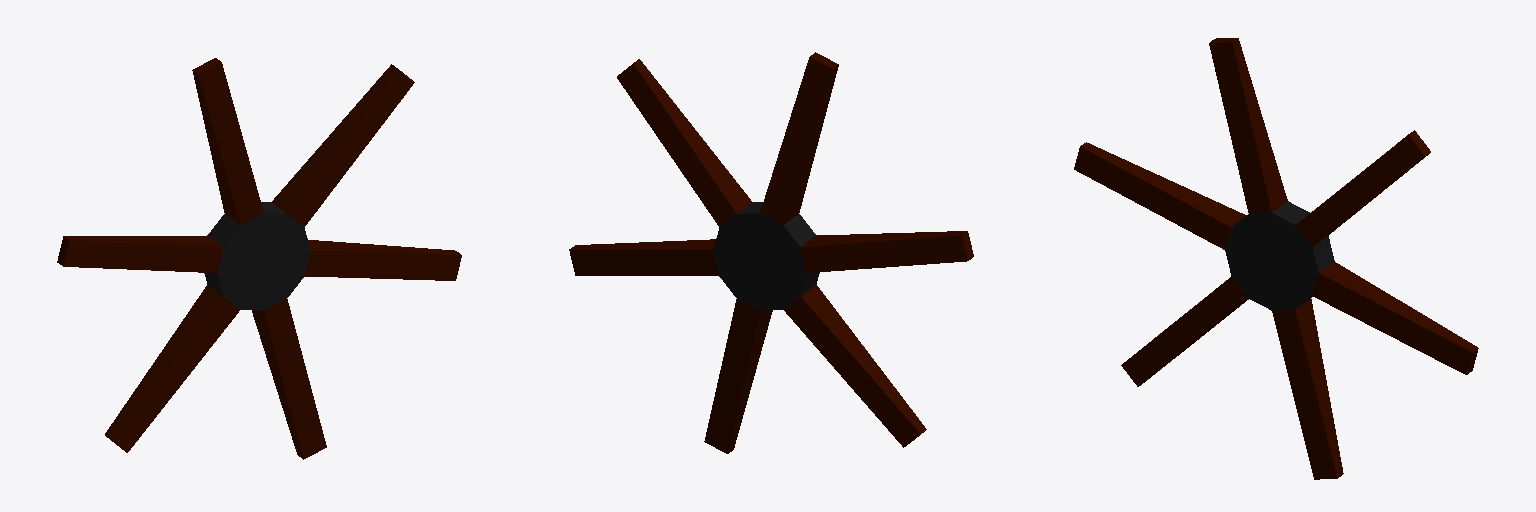
Rendered from blade.obj.
3 renders of one model, left to right at view 1: azimuth 30°, elevation 25°; view 2: azimuth 150°, elevation 25°; view 3: azimuth 330°, elevation 25°, orthographic.
Parts seen in each view (by area): view 1: Cylinder.002_Cylinder.003; view 2: Cylinder.002_Cylinder.003; view 3: Cylinder.002_Cylinder.003.
Boxes of the visible parts, <box> form: Cylinder.002_Cylinder.003: <box>57,58,461,459</box>; Cylinder.002_Cylinder.003: <box>569,52,973,453</box>; Cylinder.002_Cylinder.003: <box>1074,38,1478,479</box>.
Bounding box in the file's own units: 1.38 × 1.38 × 0.096.